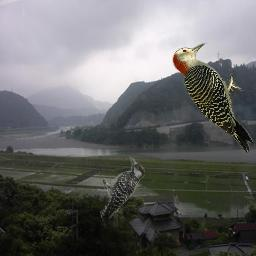Woodpecker: (170, 43, 255, 153), (100, 155, 145, 227)
